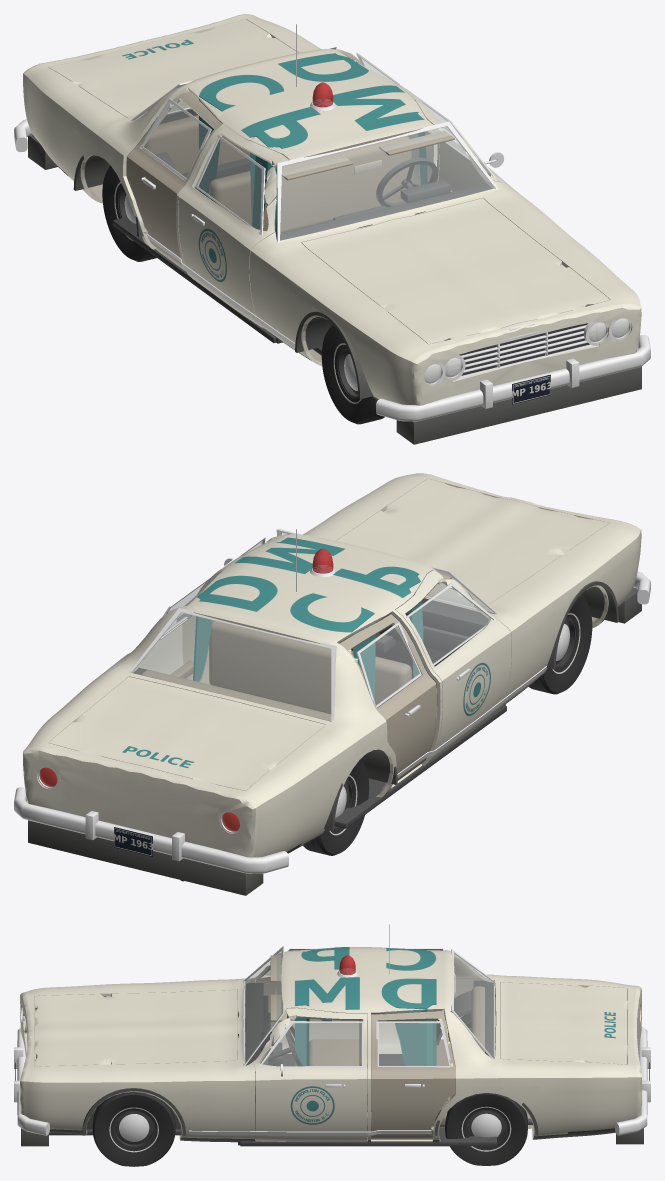
The model's file is SM_V01_PatrolSedan_MPDC.glb.
3 renders of one model, top to bottom at view 1: azimuth 30°, elevation 25°; view 2: azimuth 150°, elevation 25°; view 3: azimuth 270°, elevation 25°, orthographic. The views are drawn at different scales.
Parts seen in each view (by area): view 1: BODY, HOOD, GLASS_WINDSHIELD, TRUNK, INT_SEAT_FRONT, DOOR_FR, POLICE_DECAL_ROOF_ID, UNDER_AXLES_TANK, DOOR_RR, BUMPER_FRONT, GLASS_DOOR_FR, WHEEL_FR (+19 smaller); view 2: BODY, TRUNK, HOOD, GLASS_REAR, INT_SEAT_FRONT, POLICE_DECAL_ROOF_ID, DOOR_FR, UNDER_AXLES_TANK, DOOR_RR, BUMPER_REAR, GLASS_DOOR_FR, WHEEL_FR (+13 smaller); view 3: BODY, HOOD, TRUNK, DOOR_FL, DOOR_RL, POLICE_DECAL_ROOF_ID, WHEEL_FL, WHEEL_RL, GLASS_DOOR_FL, INT_FLOOR, GLASS_DOOR_RL, GLASS_REAR (+17 smaller).
Boxes of the visible parts, left/top/right/bottom form: BODY: left=23, top=14, right=641, bottom=405; HOOD: left=301, top=198, right=609, bottom=344; GLASS_WINDSHIELD: left=280, top=126, right=494, bottom=240; TRUNK: left=48, top=19, right=298, bottom=117; INT_SEAT_FRONT: left=209, top=136, right=411, bottom=233; DOOR_FR: left=178, top=125, right=288, bottom=327; POLICE_DECAL_ROOF_ID: left=199, top=53, right=427, bottom=234; UNDER_AXLES_TANK: left=28, top=135, right=641, bottom=444; DOOR_RR: left=126, top=87, right=222, bottom=271; BUMPER_FRONT: left=376, top=334, right=650, bottom=421; GLASS_DOOR_FR: left=198, top=138, right=261, bottom=229; WHEEL_FR: left=321, top=325, right=384, bottom=424; BODY: left=23, top=473, right=641, bottom=857; TRUNK: left=49, top=676, right=325, bottom=790; HOOD: left=336, top=478, right=609, bottom=606; GLASS_REAR: left=132, top=613, right=330, bottom=721; INT_SEAT_FRONT: left=209, top=620, right=437, bottom=728; POLICE_DECAL_ROOF_ID: left=193, top=537, right=423, bottom=700; DOOR_FR: left=395, top=570, right=511, bottom=762; UNDER_AXLES_TANK: left=28, top=587, right=641, bottom=895; DOOR_RR: left=339, top=614, right=436, bottom=792; BUMPER_REAR: left=14, top=787, right=288, bottom=873; GLASS_DOOR_FR: left=409, top=586, right=492, bottom=663; WHEEL_FR: left=528, top=595, right=592, bottom=694; BODY: left=20, top=947, right=641, bottom=1142; HOOD: left=34, top=989, right=237, bottom=1066; TRUNK: left=500, top=982, right=627, bottom=1064; DOOR_FL: left=254, top=1008, right=367, bottom=1141; DOOR_RL: left=371, top=1009, right=455, bottom=1141; POLICE_DECAL_ROOF_ID: left=295, top=947, right=436, bottom=1067; WHEEL_FL: left=92, top=1091, right=175, bottom=1166; WHEEL_RL: left=445, top=1093, right=527, bottom=1165; GLASS_DOOR_FL: left=262, top=1023, right=361, bottom=1065; INT_FLOOR: left=238, top=980, right=499, bottom=1146; GLASS_DOOR_RL: left=379, top=1023, right=448, bottom=1065; GLASS_REAR: left=454, top=953, right=493, bottom=1058.
Size of what is drawn, in the model's own units: 2.18 by 1.89 by 5.46.
Materials: 19 (4 with a texture image).
